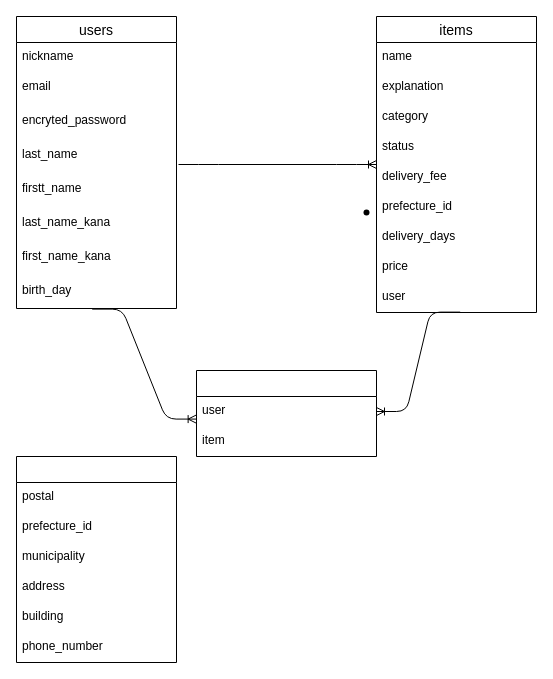
Some shapes in this 553 by 679 pixel diagram are drawn without their labels. Each missing label, with the box of its shape:
orders: (196, 370, 376, 456)
profiles: (16, 456, 176, 662)
